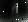person: (13, 5, 18, 18)
